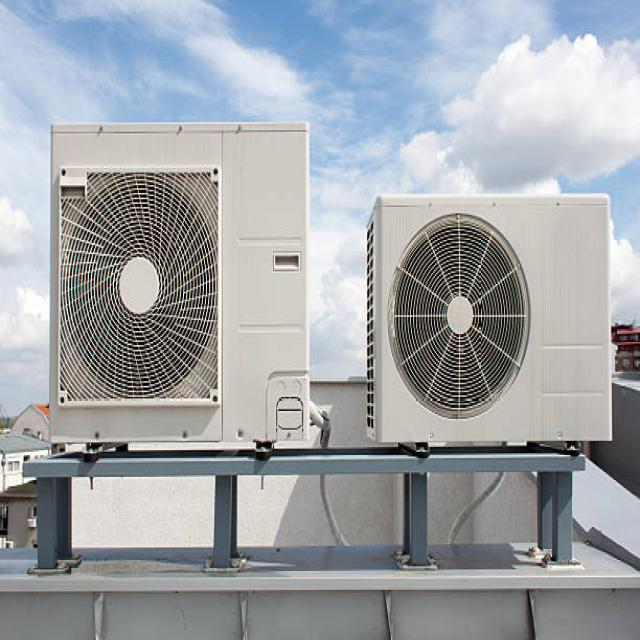Fan: (51, 118, 312, 451), (362, 191, 614, 445)
